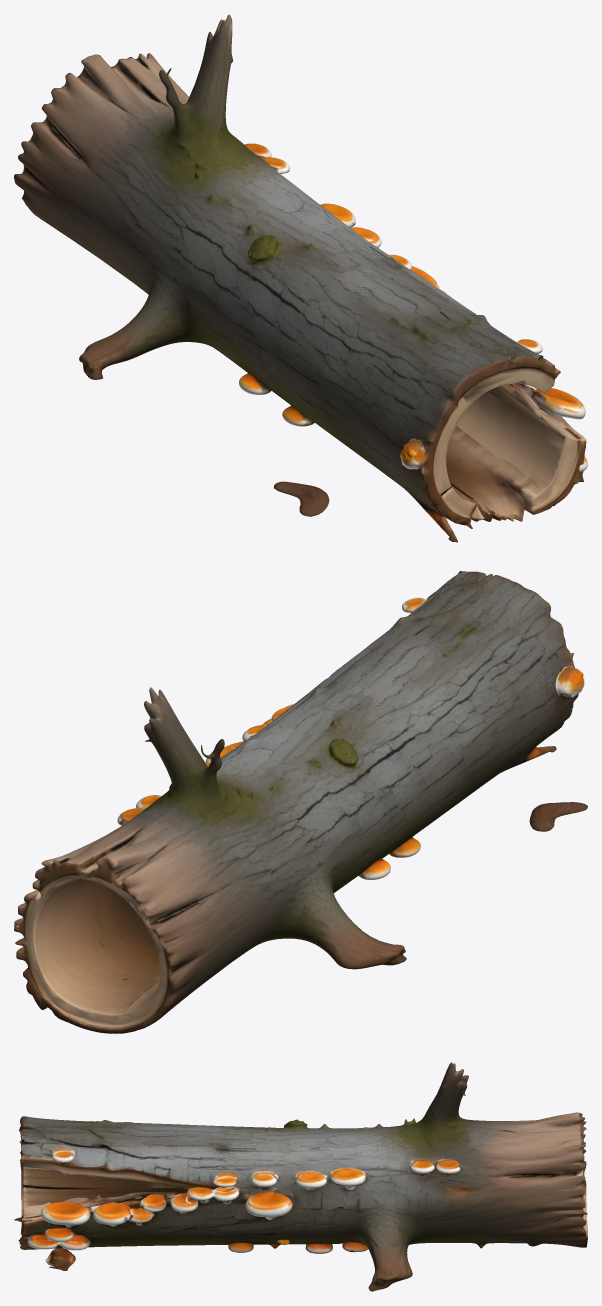
The model's file is MushroomLog.opt.glb.
The picture shows the model from 3 angles, top to bottom: view 1: azimuth 30°, elevation 25°; view 2: azimuth 150°, elevation 25°; view 3: azimuth 270°, elevation 25°; orthographic projection. The views are drawn at different scales.
Visible parts, largest first — view 1: node_0; view 2: node_0; view 3: node_0.
Boxes of the visible parts, bbox=[...] form: node_0: bbox=[14, 14, 587, 542]; node_0: bbox=[14, 571, 587, 1033]; node_0: bbox=[14, 1062, 587, 1291].
Bounding box in the file's own units: 0.5074 × 0.4054 × 1.12.
Materials: 1 (1 with a texture image).
